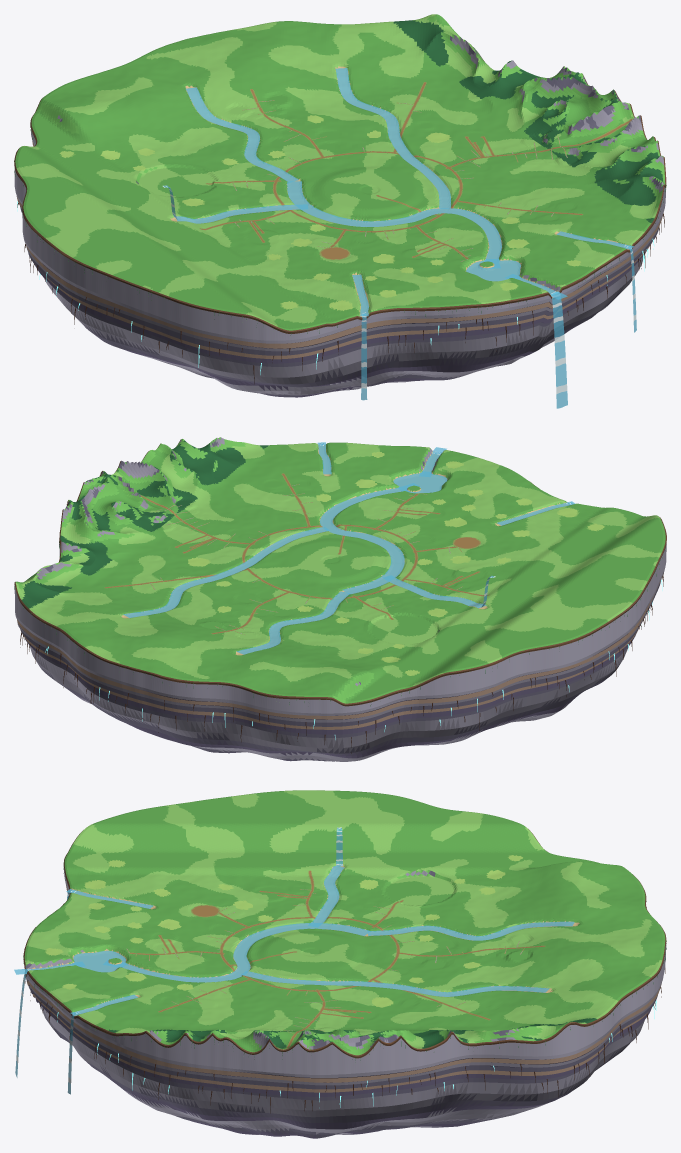
The model's file is elderglow_terrain.glb.
3 renders of one model, top to bottom at view 1: azimuth 30°, elevation 25°; view 2: azimuth 150°, elevation 25°; view 3: azimuth 270°, elevation 25°, orthographic. The views are drawn at different scales.
Visible parts, largest first — view 1: EG_Map_Ground, EG_Map_River_main, EG_Map_River_east, EG_Map_River_north, EG_Map_RimRoots, EG_Map_Waterfall_S, EG_Map_Lake, EG_Map_River_west; view 2: EG_Map_Ground, EG_Map_River_main, EG_Map_River_east, EG_Map_RimRoots, EG_Map_River_north, EG_Map_Lake, EG_Map_River_west; view 3: EG_Map_Ground, EG_Map_River_main, EG_Map_River_east, EG_Map_RimRoots, EG_Map_River_north, EG_Map_Lake, EG_Map_River_west.
Part boxes in pixels (left/top/right/bottom): EG_Map_Ground: left=14, top=14, right=666, bottom=397; EG_Map_River_main: left=287, top=181, right=501, bottom=268; EG_Map_River_east: left=335, top=68, right=450, bottom=208; EG_Map_River_north: left=185, top=87, right=298, bottom=182; EG_Map_RimRoots: left=14, top=126, right=666, bottom=383; EG_Map_Waterfall_S: left=549, top=291, right=567, bottom=408; EG_Map_Lake: left=466, top=259, right=521, bottom=281; EG_Map_River_west: left=176, top=204, right=308, bottom=223; EG_Map_Ground: left=14, top=437, right=666, bottom=761; EG_Map_River_main: left=320, top=483, right=421, bottom=594; EG_Map_River_east: left=123, top=526, right=329, bottom=617; EG_Map_RimRoots: left=14, top=473, right=665, bottom=753; EG_Map_River_north: left=236, top=591, right=350, bottom=654; EG_Map_Lake: left=393, top=471, right=447, bottom=493; EG_Map_River_west: left=382, top=575, right=486, bottom=608; EG_Map_Ground: left=23, top=790, right=666, bottom=1138; EG_Map_River_main: left=103, top=923, right=369, bottom=982; EG_Map_River_east: left=241, top=971, right=549, bottom=996; EG_Map_RimRoots: left=23, top=866, right=666, bottom=1113; EG_Map_River_north: left=367, top=921, right=574, bottom=940; EG_Map_Lake: left=71, top=950, right=127, bottom=972; EG_Map_River_west: left=308, top=866, right=344, bottom=927.
Bounding box in the file's own units: 885 × 334 × 926.
